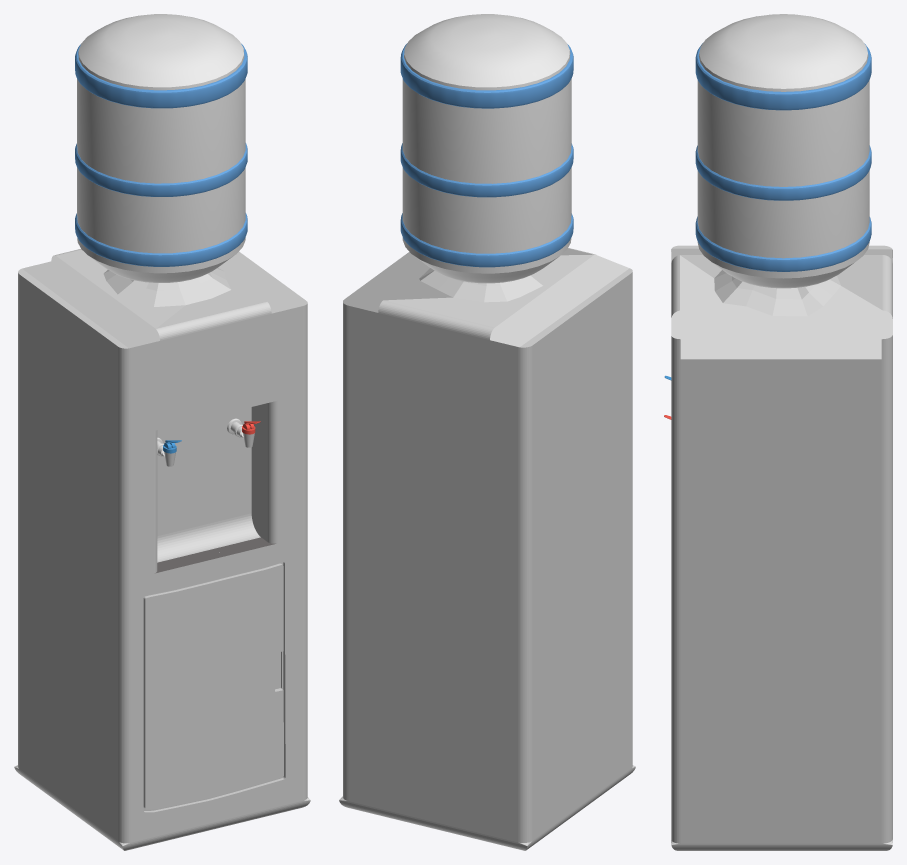
File: Waterdispenser.fbx
3 renders of one model, left to right at view 1: azimuth 30°, elevation 25°; view 2: azimuth 150°, elevation 25°; view 3: azimuth 270°, elevation 25°, orthographic.
Parts seen in each view (by area): view 1: Cube.002; view 2: Cube.002; view 3: Cube.002.
Boxes of the visible parts, <box> form: Cube.002: <box>14,14,310,850</box>; Cube.002: <box>339,14,635,850</box>; Cube.002: <box>664,14,892,850</box>.
Size of the model in its own units: 126 by 488 by 130.
